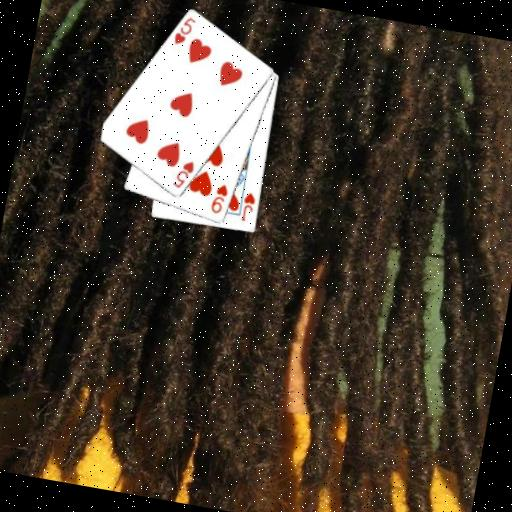5H: (168, 155, 196, 192), (170, 12, 197, 49)
9H: (207, 179, 231, 216)
JH: (237, 188, 258, 224)
